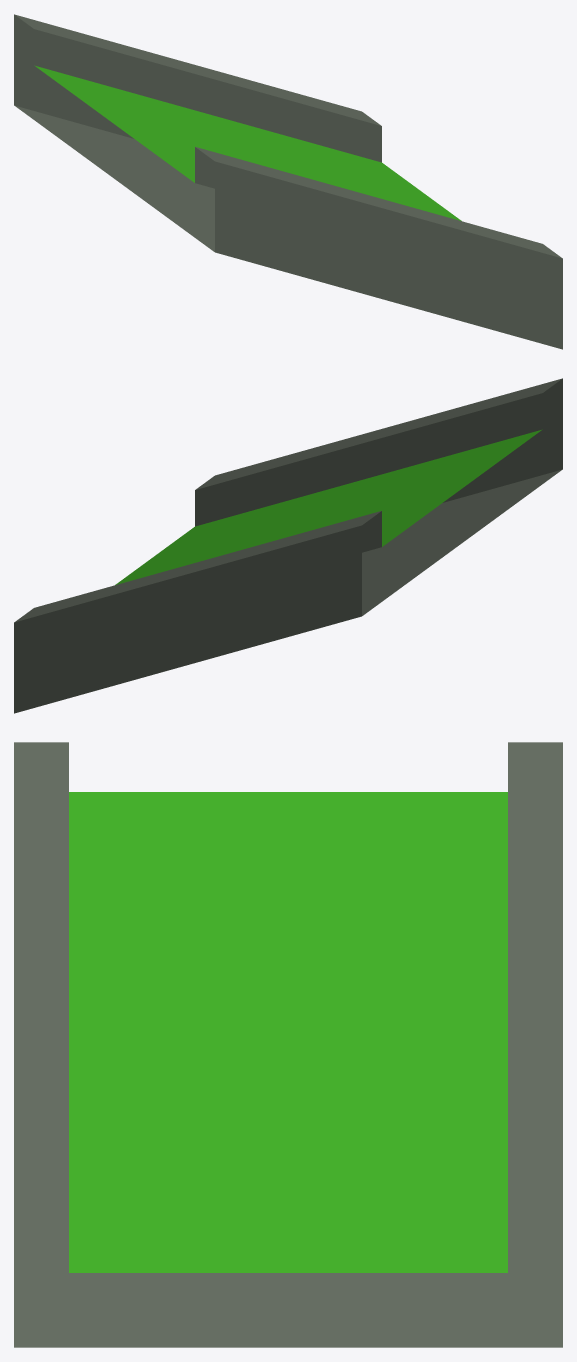
The model's file is RampTall.fbx.
3 renders of one model, top to bottom at view 1: azimuth 30°, elevation 25°; view 2: azimuth 150°, elevation 25°; view 3: azimuth 270°, elevation 25°, orthographic. The views are drawn at different scales.
Visible parts, largest first — view 1: RampTall; view 2: RampTall; view 3: RampTall.
Boxes of the visible parts, x1=… form: RampTall: x1=14, y1=14, x2=562, y2=349; RampTall: x1=14, y1=378, x2=562, y2=713; RampTall: x1=14, y1=742, x2=562, y2=1347.
Size of the model in its own units: 200 by 150 by 200.
